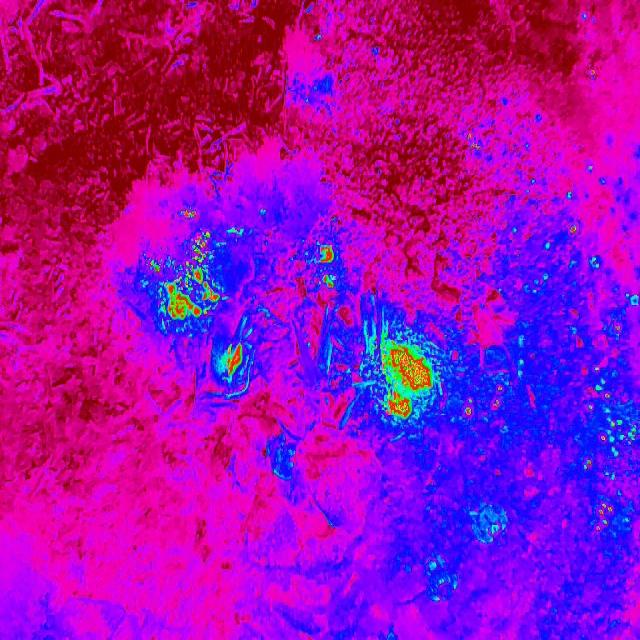fire: (569, 354, 640, 554), (147, 208, 220, 326), (368, 334, 435, 424), (456, 384, 505, 416), (314, 243, 340, 295), (218, 340, 246, 382)
